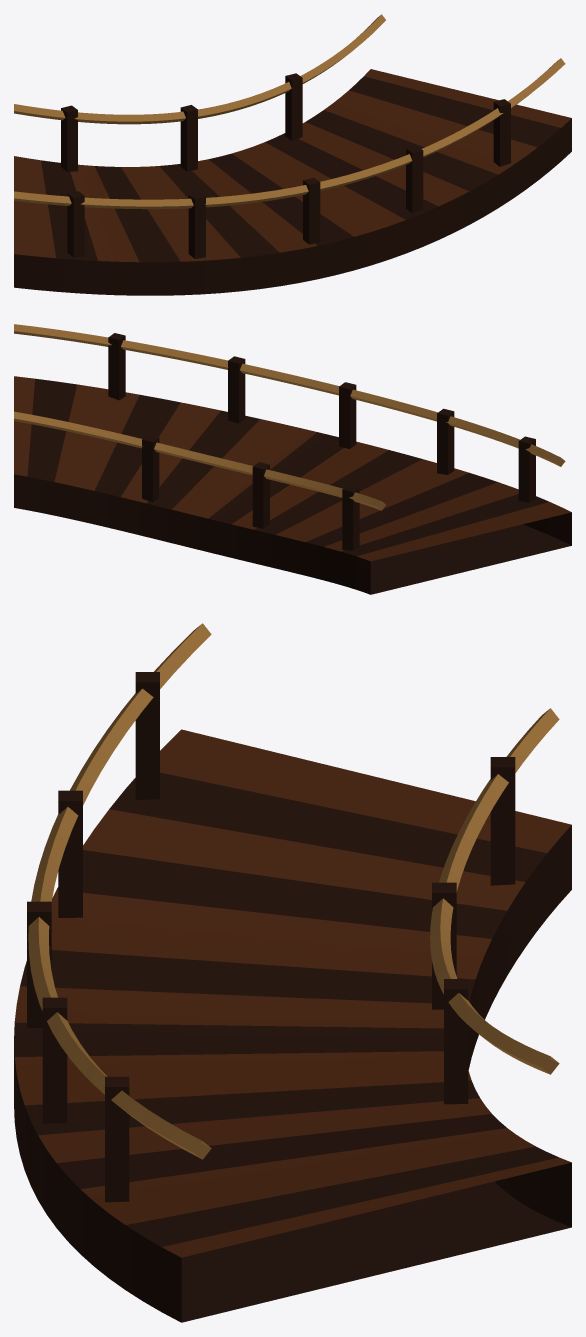
The model's file is MODULE_DESERT_BRIDGE.fbx.
The picture shows the model from 3 angles, top to bottom: view 1: azimuth 30°, elevation 25°; view 2: azimuth 150°, elevation 25°; view 3: azimuth 270°, elevation 25°; orthographic projection. The views are drawn at different scales.
Parts seen in each view (by area): view 1: MODULE_DESERT_BRIDGE__export, MODULE_DESERT_BRIDGE_DECOR__export; view 2: MODULE_DESERT_BRIDGE__export, MODULE_DESERT_BRIDGE_DECOR__export; view 3: MODULE_DESERT_BRIDGE__export, MODULE_DESERT_BRIDGE_DECOR__export.
Boxes of the visible parts, bbox=[...] form: MODULE_DESERT_BRIDGE__export: bbox=[14, 69, 571, 295]; MODULE_DESERT_BRIDGE_DECOR__export: bbox=[14, 14, 565, 258]; MODULE_DESERT_BRIDGE__export: bbox=[14, 376, 571, 594]; MODULE_DESERT_BRIDGE_DECOR__export: bbox=[14, 324, 565, 550]; MODULE_DESERT_BRIDGE__export: bbox=[14, 729, 571, 1322]; MODULE_DESERT_BRIDGE_DECOR__export: bbox=[27, 623, 559, 1202].
Bounding box in the file's own units: 61 × 12 × 27.23.
